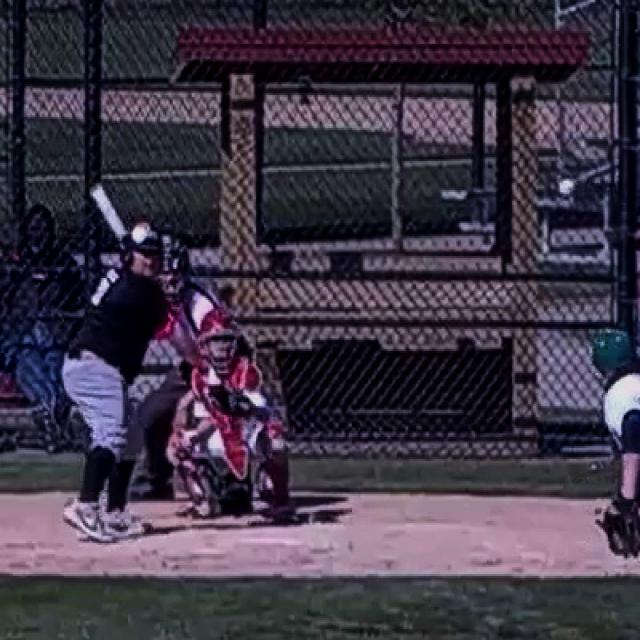baseball: (560, 179, 574, 194)
